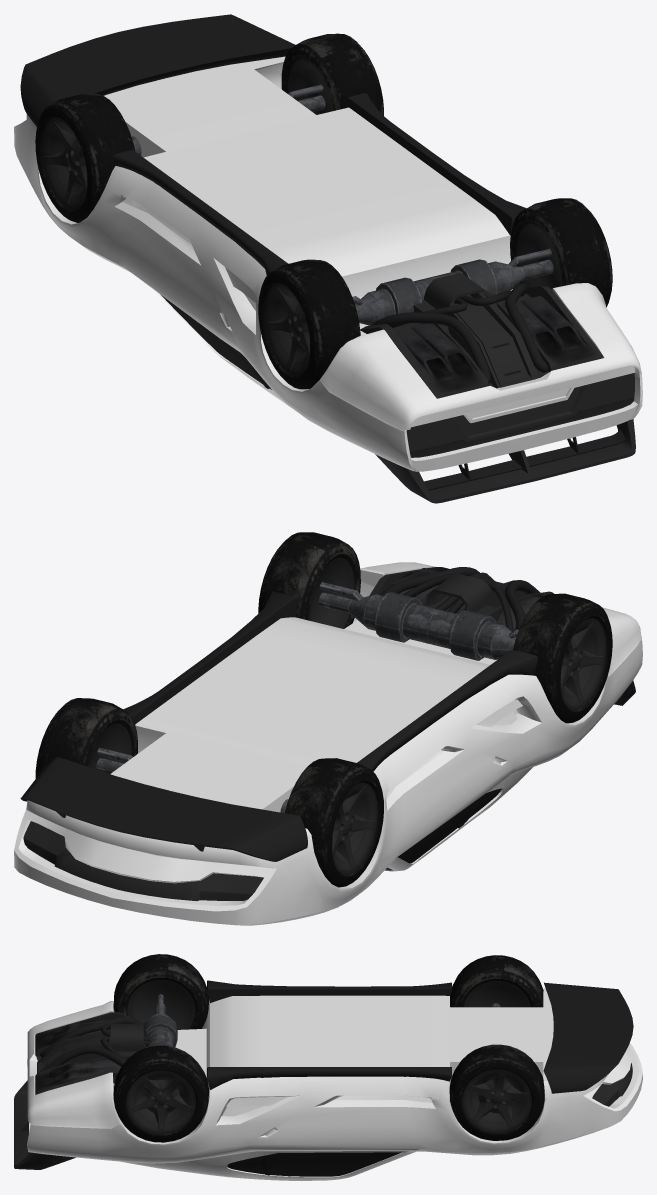
3 renders of one model, top to bottom at view 1: azimuth 30°, elevation 25°; view 2: azimuth 150°, elevation 25°; view 3: azimuth 270°, elevation 25°, orthographic. The views are drawn at different scales.
Parts seen in each view (by area): view 1: cb_car_export; view 2: cb_car_export; view 3: cb_car_export.
Part boxes in pixels (<box>): cb_car_export: <box>14,14,642,503</box>; cb_car_export: <box>14,532,642,925</box>; cb_car_export: <box>14,954,642,1180</box>.
Bounding box in the file's own units: 22261 × 14053 × 54053.
